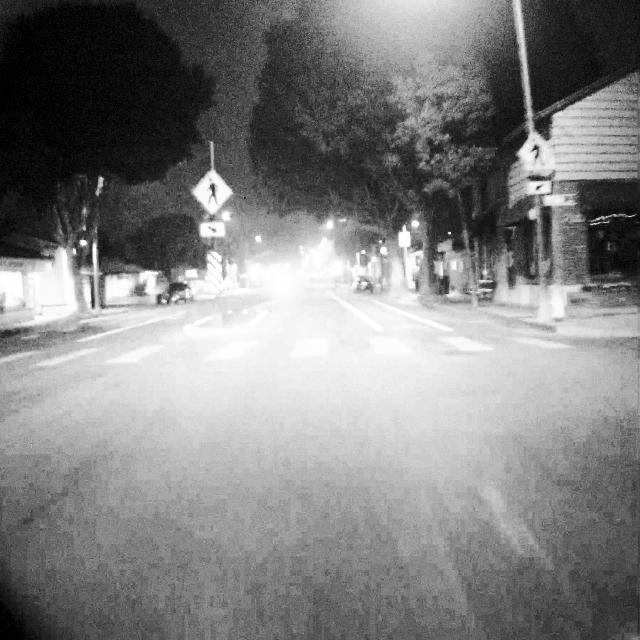Sign: (193, 169, 233, 214), (519, 130, 553, 171), (208, 251, 222, 293), (528, 181, 551, 194), (202, 223, 224, 236)
